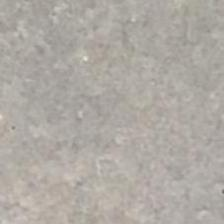Non_Crack: (16, 12, 207, 192)
